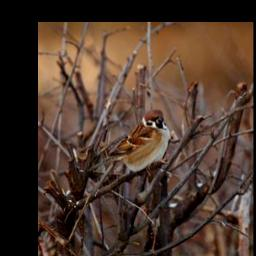Sparrow: (85, 108, 174, 177)
